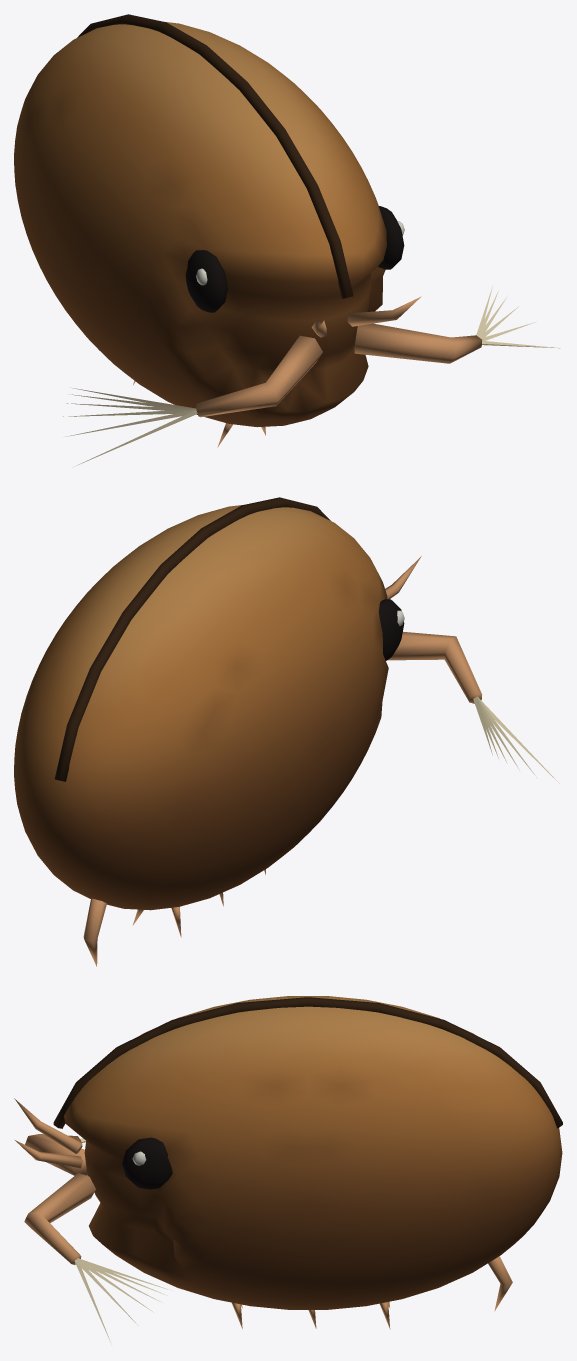
Rendered from ColymbosathonEcplecticos.fbx.
The picture shows the model from 3 angles, top to bottom: view 1: azimuth 30°, elevation 25°; view 2: azimuth 150°, elevation 25°; view 3: azimuth 270°, elevation 25°; orthographic projection. The views are drawn at different scales.
Visible parts, largest first — view 1: ColymbosathonEcplecticos; view 2: ColymbosathonEcplecticos; view 3: ColymbosathonEcplecticos.
Part boxes in pixels (x1,y1,x2,y2): ColymbosathonEcplecticos: (14,14,560,465); ColymbosathonEcplecticos: (14,497,559,966); ColymbosathonEcplecticos: (14,996,562,1342).
Bounding box in the file's own units: 1.21 × 0.8641 × 1.34.
